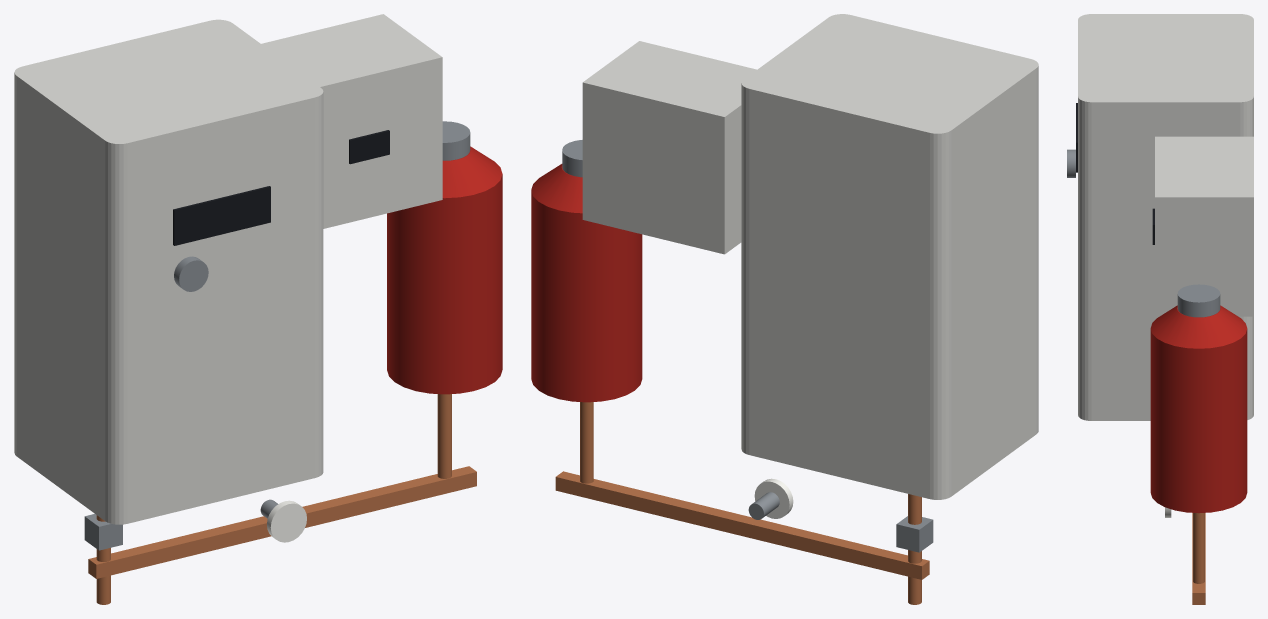
3 renders of one model, left to right at view 1: azimuth 30°, elevation 25°; view 2: azimuth 150°, elevation 25°; view 3: azimuth 270°, elevation 25°, orthographic. The views are drawn at different scales.
Parts seen in each view (by area): view 1: Boiler, ExpansionVessel, ControlBox, Manifold, BoilerDisplay, Manometer, ExpansionFeed, Valve, ControlSwitch, ExpansionCap, BoilerDial; view 2: Boiler, ControlBox, ExpansionVessel, Manifold, ExpansionFeed, Valve, Pipe, Manometer, ExpansionCap; view 3: Boiler, ExpansionVessel, ControlBox, ExpansionCap, ExpansionFeed, Manifold.
Boxes of the visible parts, box(x1,y1,x2,y2) form: Boiler: box(14, 19, 323, 524); ExpansionVessel: box(387, 146, 502, 394); ControlBox: box(261, 14, 442, 228); Manifold: box(88, 466, 476, 578); BoilerDisplay: box(173, 186, 270, 245); Manometer: box(267, 500, 306, 542); ExpansionFeed: box(437, 394, 451, 478); Valve: box(84, 514, 122, 550); ControlSwitch: box(349, 130, 389, 164); ExpansionCap: box(442, 121, 470, 160); BoilerDial: box(174, 256, 208, 291); Boiler: box(741, 14, 1038, 499); ControlBox: box(582, 41, 756, 254); ExpansionVessel: box(531, 164, 642, 402); Manifold: box(555, 471, 929, 579); ExpansionFeed: box(580, 402, 593, 483); Valve: box(896, 516, 933, 552); Pipe: box(908, 494, 921, 604); Manometer: box(754, 478, 793, 518); ExpansionCap: box(562, 140, 582, 177); Boiler: box(1078, 14, 1253, 420); ExpansionVessel: box(1150, 305, 1247, 513); ControlBox: box(1155, 136, 1253, 316); ExpansionCap: box(1177, 284, 1220, 317); ExpansionFeed: box(1193, 513, 1204, 583); Manifold: box(1192, 513, 1205, 604).
Bounding box in the file's own units: 0.798 × 0.88 × 0.34.
